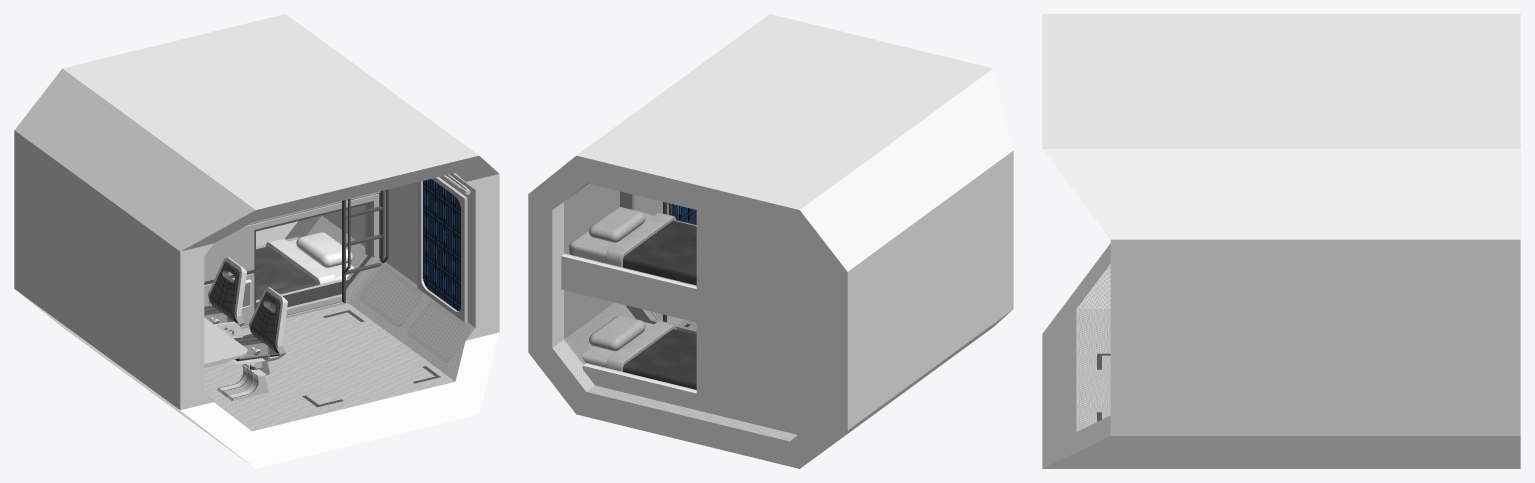
Rendered from ARKHA_L2_SleepWardBay_V1.glb.
The picture shows the model from 3 angles, left to right: view 1: azimuth 30°, elevation 25°; view 2: azimuth 150°, elevation 25°; view 3: azimuth 270°, elevation 25°; orthographic projection. The views are drawn at different scales.
Visible parts, largest first — view 1: 3DGeom-82, 3DGeom-84, 3DGeom-55, 3DGeom-2, 3DGeom-1, 3DGeom-56, 3DGeom-68, 3DGeom-73, 3DGeom-74, 3DGeom-3, 3DGeom-70, 3DGeom-69 (+9 smaller); view 2: 3DGeom-82, 3DGeom-80, 3DGeom-81, 3DGeom-84, 3DGeom-64, 3DGeom-68, 3DGeom-70, 3DGeom-66, 3DGeom-65, 3DGeom-69, 3DGeom-63, 3DGeom-55 (+1 smaller); view 3: 3DGeom-82, 3DGeom-84.
Boxes of the visible parts, x1,y1,x2,y2 form: 3DGeom-82: [14, 14, 499, 468]; 3DGeom-84: [204, 215, 474, 431]; 3DGeom-55: [204, 191, 380, 332]; 3DGeom-2: [423, 179, 460, 311]; 3DGeom-1: [417, 177, 467, 322]; 3DGeom-56: [204, 193, 379, 326]; 3DGeom-68: [256, 246, 318, 300]; 3DGeom-73: [407, 301, 470, 362]; 3DGeom-74: [359, 266, 423, 327]; 3DGeom-3: [204, 317, 247, 366]; 3DGeom-70: [296, 232, 352, 267]; 3DGeom-69: [266, 238, 335, 284]; 3DGeom-82: [528, 14, 1013, 468]; 3DGeom-80: [561, 210, 823, 434]; 3DGeom-81: [564, 183, 696, 389]; 3DGeom-84: [552, 302, 797, 441]; 3DGeom-64: [623, 220, 696, 285]; 3DGeom-68: [623, 329, 696, 389]; 3DGeom-70: [589, 315, 645, 351]; 3DGeom-66: [589, 207, 645, 242]; 3DGeom-65: [606, 212, 676, 267]; 3DGeom-69: [606, 321, 676, 371]; 3DGeom-63: [569, 213, 653, 263]; 3DGeom-55: [620, 191, 696, 334]; 3DGeom-82: [1042, 14, 1520, 468]; 3DGeom-84: [1076, 264, 1110, 431].
Bounding box in the file's own units: 4 × 3.1 × 4.2.
18 materials, 7 textured.
